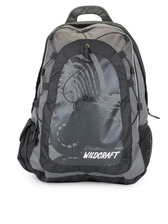bag: (16, 6, 160, 185)
